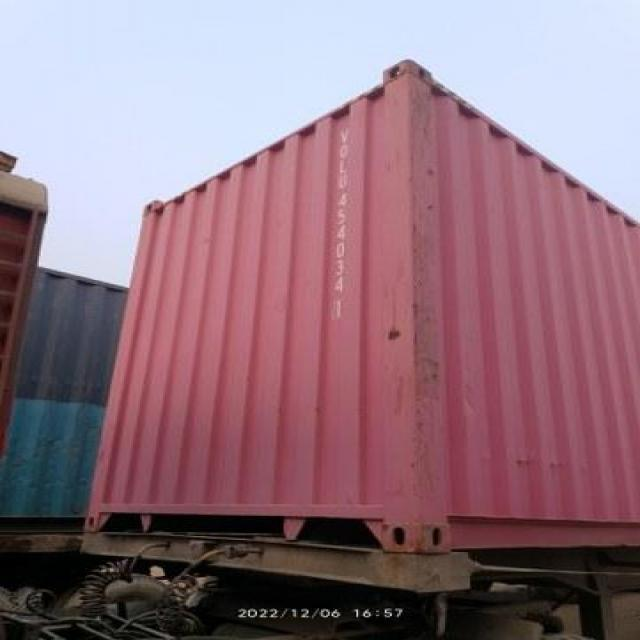container_number: (317, 118, 358, 322)
